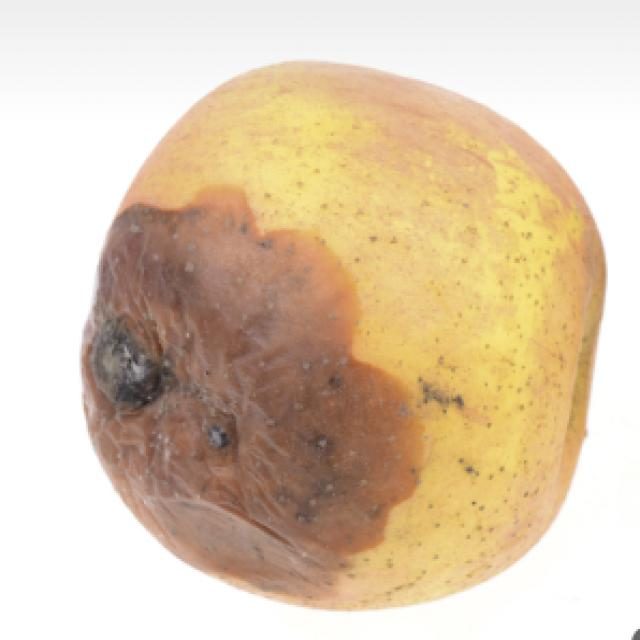rotten_apple: (80, 60, 604, 613)
